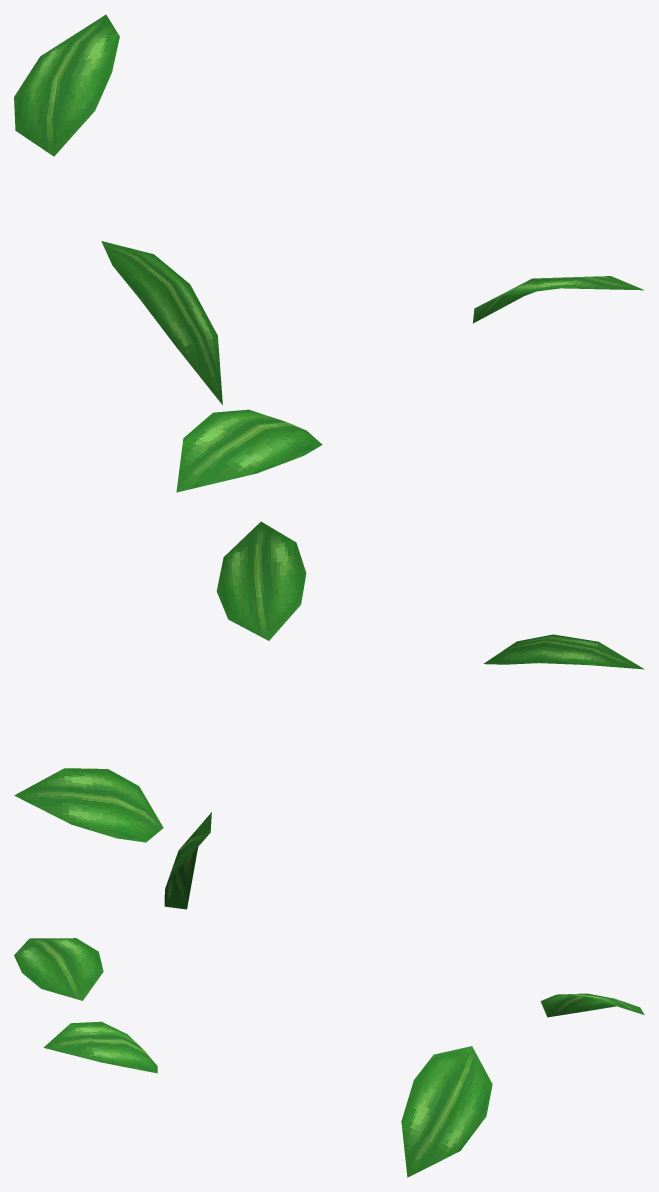
Rendered from EKH_BARRELROOM_PS_JA1_LEAVES84746.fbx.
3 renders of one model, top to bottom at view 1: azimuth 30°, elevation 25°; view 2: azimuth 150°, elevation 25°; view 3: azimuth 270°, elevation 25°, orthographic. The views are drawn at different scales.
Visible parts, largest first — view 1: EKH_BARRELROOM_PS_JA1_LEAVES84746; view 2: EKH_BARRELROOM_PS_JA1_LEAVES84746; view 3: EKH_BARRELROOM_PS_JA1_LEAVES84746.
Boxes of the visible parts, box(x1,y1,x2,y2) form: EKH_BARRELROOM_PS_JA1_LEAVES84746: box(14, 14, 644, 492); EKH_BARRELROOM_PS_JA1_LEAVES84746: box(14, 521, 644, 909); EKH_BARRELROOM_PS_JA1_LEAVES84746: box(14, 938, 644, 1177).
Size of the model in its own units: 4276 by 2257 by 6826.
1 material, 1 textured.
